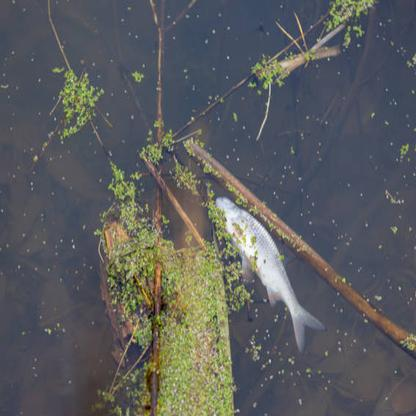deceased fish: (212, 192, 327, 355)
